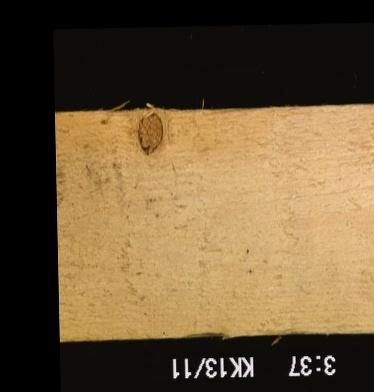dry_knot: (136, 111, 164, 155)
